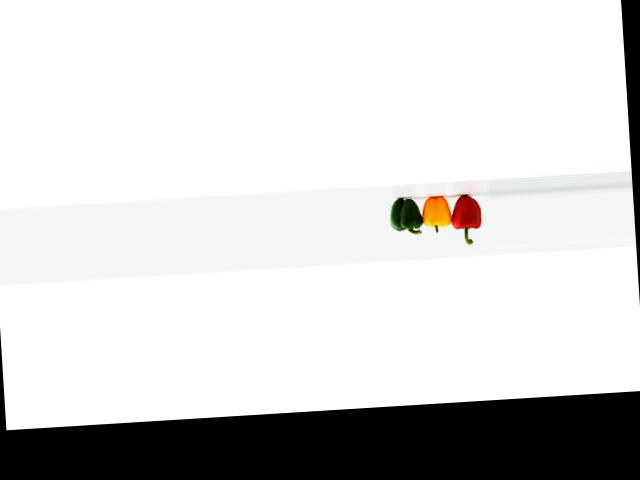bell_pepper: (446, 188, 491, 249)
